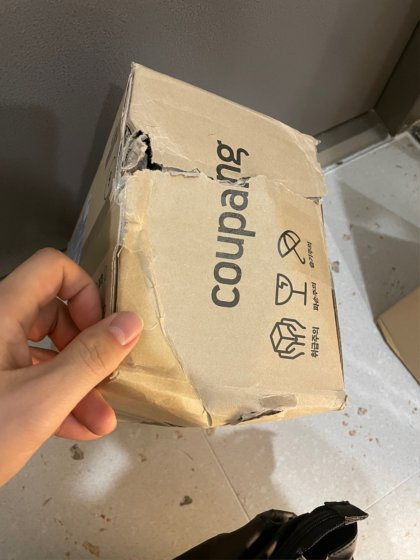damaged package: (117, 108, 264, 192)
